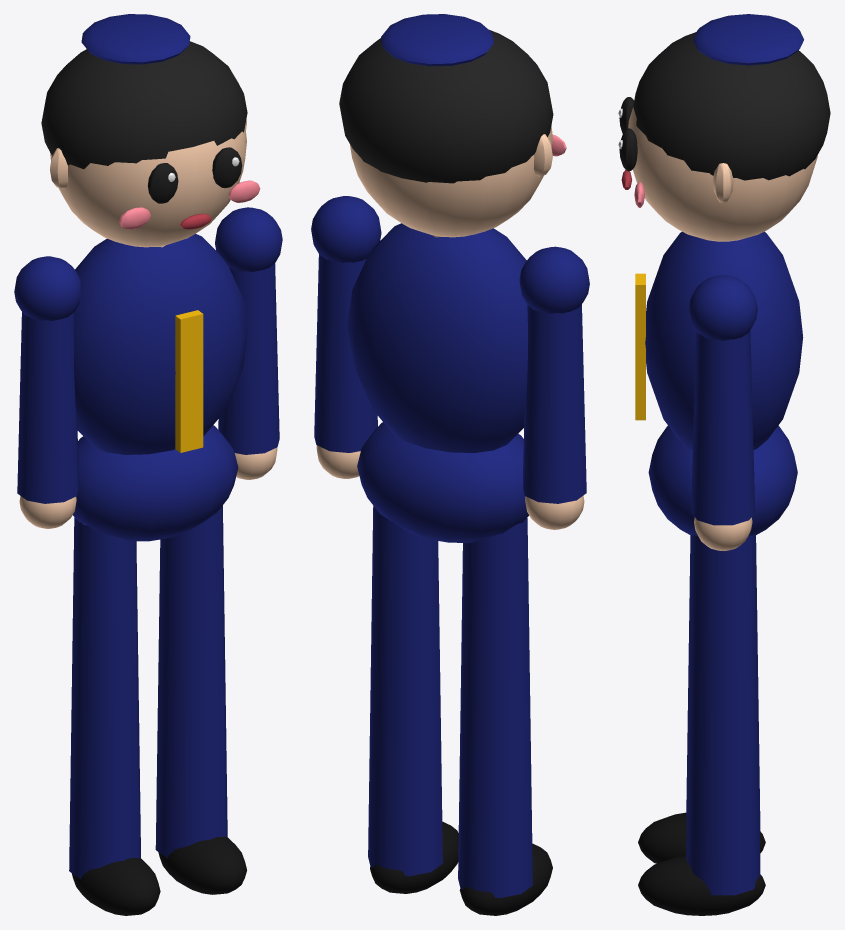
The model's file is town_agent.glb.
3 views of the same model, side by side, from view 1: azimuth 30°, elevation 25°; view 2: azimuth 150°, elevation 25°; view 3: azimuth 270°, elevation 25° (orthographic). The views are drawn at different scales.
Parts seen in each view (by area): view 1: Body.005, Leg_R.005, Leg_L.005, Arm_R.004, Arm_L.004; view 2: Body.005, Leg_R.005, Leg_L.005, Arm_R.004, Arm_L.004; view 3: Body.005, Leg_L.005, Arm_L.004, Leg_R.005.
Part boxes in pixels (x1=…): Body.005: x1=41, y1=14, x2=260, y2=541; Leg_R.005: x1=69, y1=517, x2=160, y2=915; Leg_L.005: x1=155, y1=505, x2=246, y2=894; Arm_R.004: x1=14, y1=256, x2=81, y2=528; Arm_L.004: x1=215, y1=207, x2=282, y2=479; Body.005: x1=339, y1=14, x2=566, y2=542; Leg_R.005: x1=458, y1=518, x2=552, y2=915; Leg_L.005: x1=368, y1=506, x2=458, y2=893; Arm_R.004: x1=519, y1=246, x2=589, y2=529; Arm_L.004: x1=311, y1=196, x2=381, y2=478; Body.005: x1=618, y1=14, x2=830, y2=535; Leg_L.005: x1=638, y1=535, x2=765, y2=915; Arm_L.004: x1=688, y1=275, x2=757, y2=550; Leg_R.005: x1=638, y1=535, x2=765, y2=863.
Size of the model in its own units: 0.57 by 1.78 by 0.3981.
